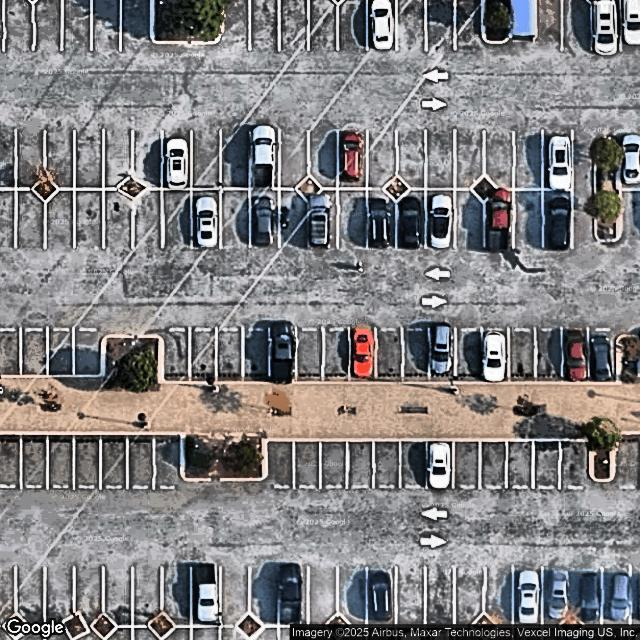car: (484, 187, 512, 253), (251, 123, 277, 192), (268, 320, 295, 383), (192, 561, 219, 624), (278, 562, 304, 627), (562, 329, 590, 383), (547, 135, 573, 193), (516, 568, 540, 627), (398, 196, 424, 250), (350, 324, 375, 380), (547, 195, 572, 250), (594, 0, 618, 57), (307, 191, 331, 248), (428, 320, 452, 376), (429, 195, 454, 248), (367, 196, 392, 249), (250, 193, 274, 247), (165, 136, 188, 192), (588, 332, 613, 383), (368, 570, 393, 621), (370, 0, 395, 50), (482, 330, 505, 383), (196, 196, 218, 251), (609, 573, 633, 623), (428, 441, 452, 490), (548, 569, 570, 621), (577, 571, 599, 623), (342, 130, 363, 182), (623, 133, 639, 186), (623, 1, 640, 45)
lot_boundary: (1, 1, 639, 639)
objects: (0, 336, 639, 482), (152, 0, 223, 42), (596, 139, 619, 241), (481, 0, 510, 41), (511, 0, 538, 40), (116, 176, 150, 199), (471, 177, 500, 203), (324, 613, 353, 639), (470, 613, 498, 639), (296, 176, 323, 202), (148, 615, 177, 639), (384, 177, 411, 202), (237, 614, 264, 639), (559, 614, 586, 639), (2, 614, 29, 639), (91, 615, 118, 639), (64, 614, 89, 639), (32, 177, 59, 200)
stall: (43, 568, 74, 629), (396, 567, 425, 632), (542, 566, 572, 628), (454, 567, 484, 629), (45, 129, 75, 190), (485, 129, 515, 190), (132, 128, 162, 189), (366, 188, 396, 249), (397, 128, 427, 189), (307, 567, 337, 628), (219, 565, 249, 626), (74, 128, 104, 188), (162, 190, 192, 250), (220, 189, 250, 249), (250, 189, 280, 249), (220, 129, 250, 189), (513, 130, 543, 190), (425, 190, 455, 250), (338, 189, 368, 249), (543, 130, 573, 190), (513, 190, 543, 250), (309, 129, 339, 189), (45, 189, 75, 249), (484, 191, 514, 251), (398, 190, 428, 250), (308, 189, 338, 249), (132, 190, 162, 250), (573, 570, 602, 632), (16, 129, 45, 190), (455, 128, 484, 189), (368, 128, 397, 189), (16, 189, 45, 250), (455, 189, 484, 250), (277, 188, 306, 249), (104, 189, 133, 250), (16, 569, 45, 630), (485, 570, 514, 631), (338, 569, 367, 630), (162, 566, 191, 627), (103, 565, 132, 626), (250, 567, 279, 628), (133, 566, 162, 627), (162, 130, 191, 190), (191, 190, 220, 250), (75, 190, 104, 250), (338, 128, 367, 188), (250, 128, 279, 188), (193, 130, 222, 190), (426, 128, 455, 188), (544, 190, 573, 250), (426, 568, 455, 627), (368, 568, 396, 629), (280, 129, 308, 189), (103, 128, 131, 188), (279, 568, 307, 627), (603, 570, 630, 630), (75, 568, 103, 624), (428, 329, 457, 380), (349, 328, 378, 379), (19, 323, 48, 374), (399, 442, 428, 493), (126, 437, 155, 488), (505, 442, 534, 493), (532, 442, 561, 493), (91, 0, 120, 50), (561, 0, 590, 50), (454, 0, 483, 50), (278, 0, 307, 50), (220, 0, 249, 50), (3, 0, 32, 50), (33, 0, 62, 50), (214, 329, 243, 379), (402, 329, 431, 379), (295, 329, 324, 379), (507, 330, 536, 380), (425, 443, 454, 493), (346, 442, 375, 492), (560, 442, 589, 492), (242, 328, 270, 379), (376, 328, 404, 379), (73, 323, 101, 374), (293, 441, 321, 492), (99, 437, 127, 488), (20, 435, 48, 486), (46, 436, 74, 487), (73, 436, 101, 487), (250, 0, 278, 50), (122, 0, 150, 50), (593, 0, 621, 50), (427, 0, 455, 50), (397, 0, 425, 50), (63, 1, 91, 51), (367, 0, 395, 50), (338, 0, 366, 50), (309, 0, 337, 50), (269, 328, 297, 378), (188, 329, 216, 379), (323, 329, 351, 379), (534, 330, 562, 380), (481, 329, 509, 379), (452, 443, 480, 493), (373, 442, 401, 492), (319, 442, 347, 492), (479, 443, 507, 493), (161, 329, 188, 380), (562, 329, 589, 380), (455, 330, 482, 380), (47, 324, 73, 375), (589, 330, 615, 380), (615, 435, 640, 487), (154, 437, 179, 487), (269, 442, 294, 491), (621, 132, 640, 190), (0, 437, 21, 489), (540, 0, 561, 50), (0, 323, 20, 373), (0, 569, 16, 627), (622, 0, 640, 51), (620, 189, 638, 239)
